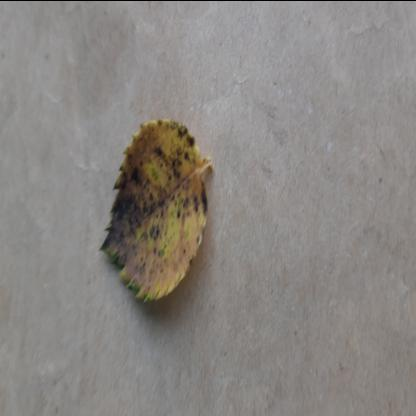black-spot: (95, 107, 213, 316)
